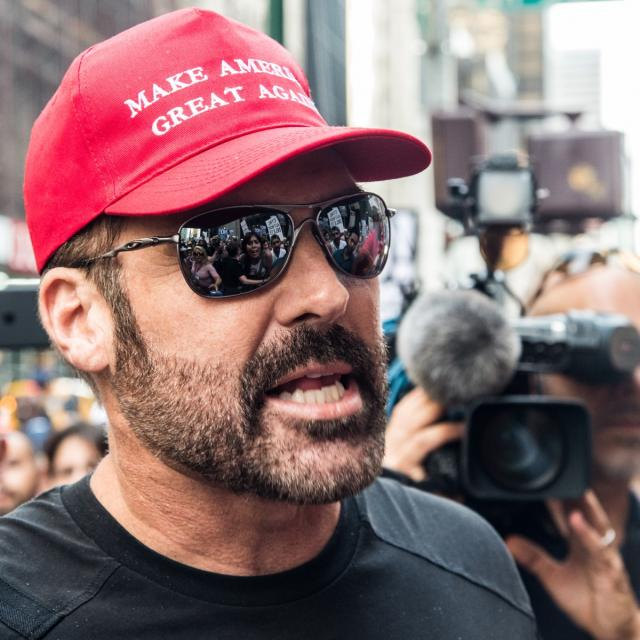3_gorra: (24, 8, 435, 274)
